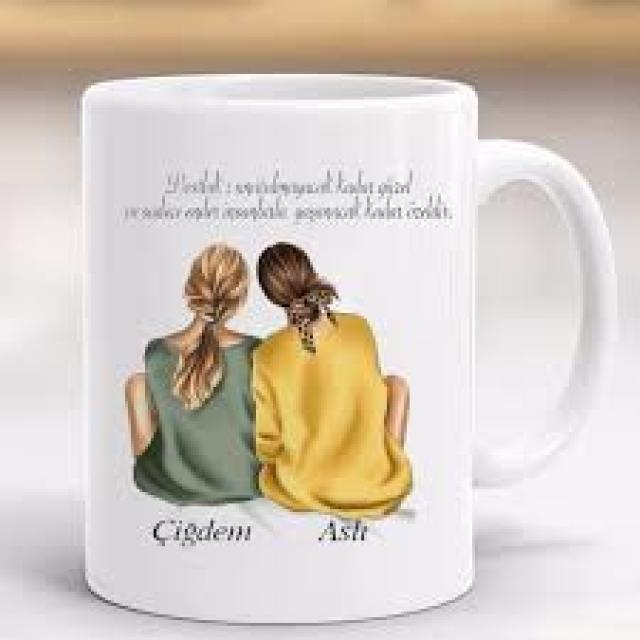taza: (79, 73, 620, 624)
